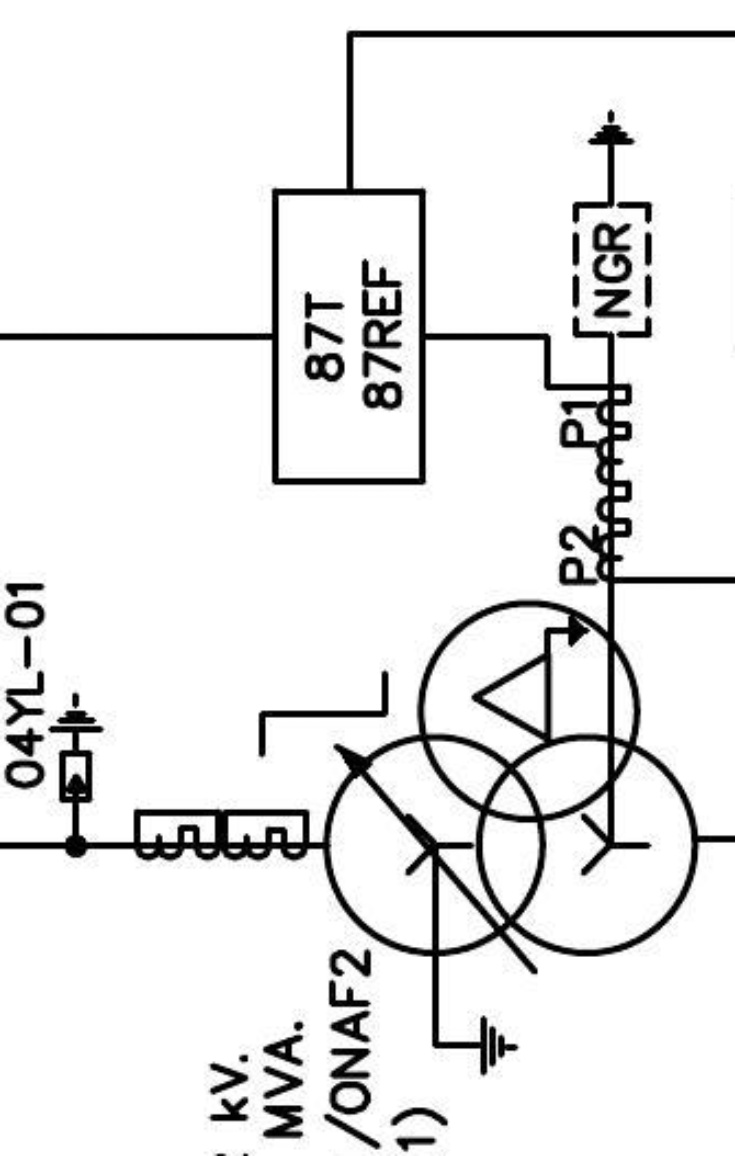11522_tx_ynyn0d1: (321, 597, 701, 959)
115_la: (46, 691, 105, 804)
NGR_future: (572, 108, 653, 340)
